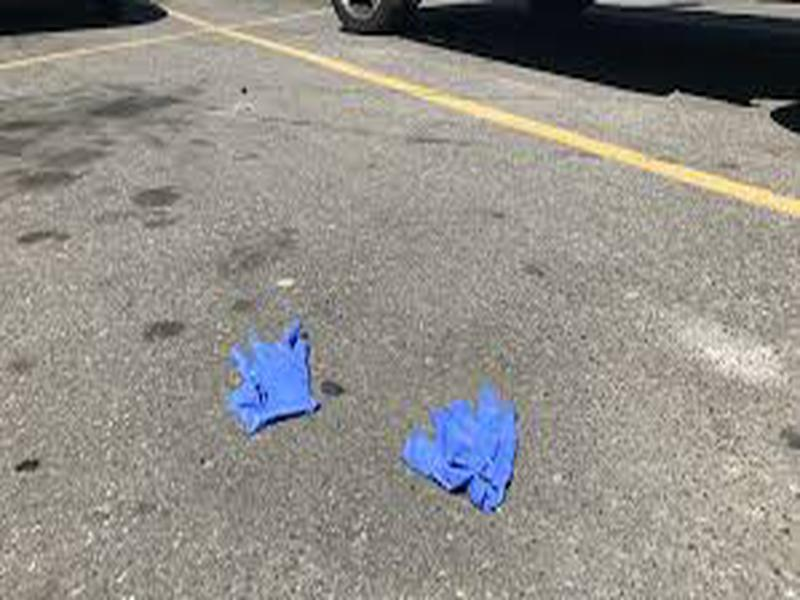gloves: (390, 384, 530, 514), (209, 313, 334, 434)
